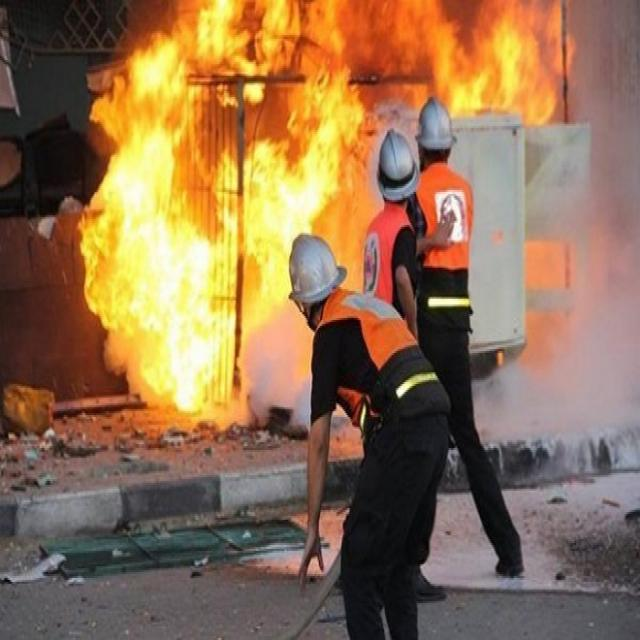Fire: (80, 39, 391, 423), (307, 0, 570, 126), (144, 0, 324, 74)
